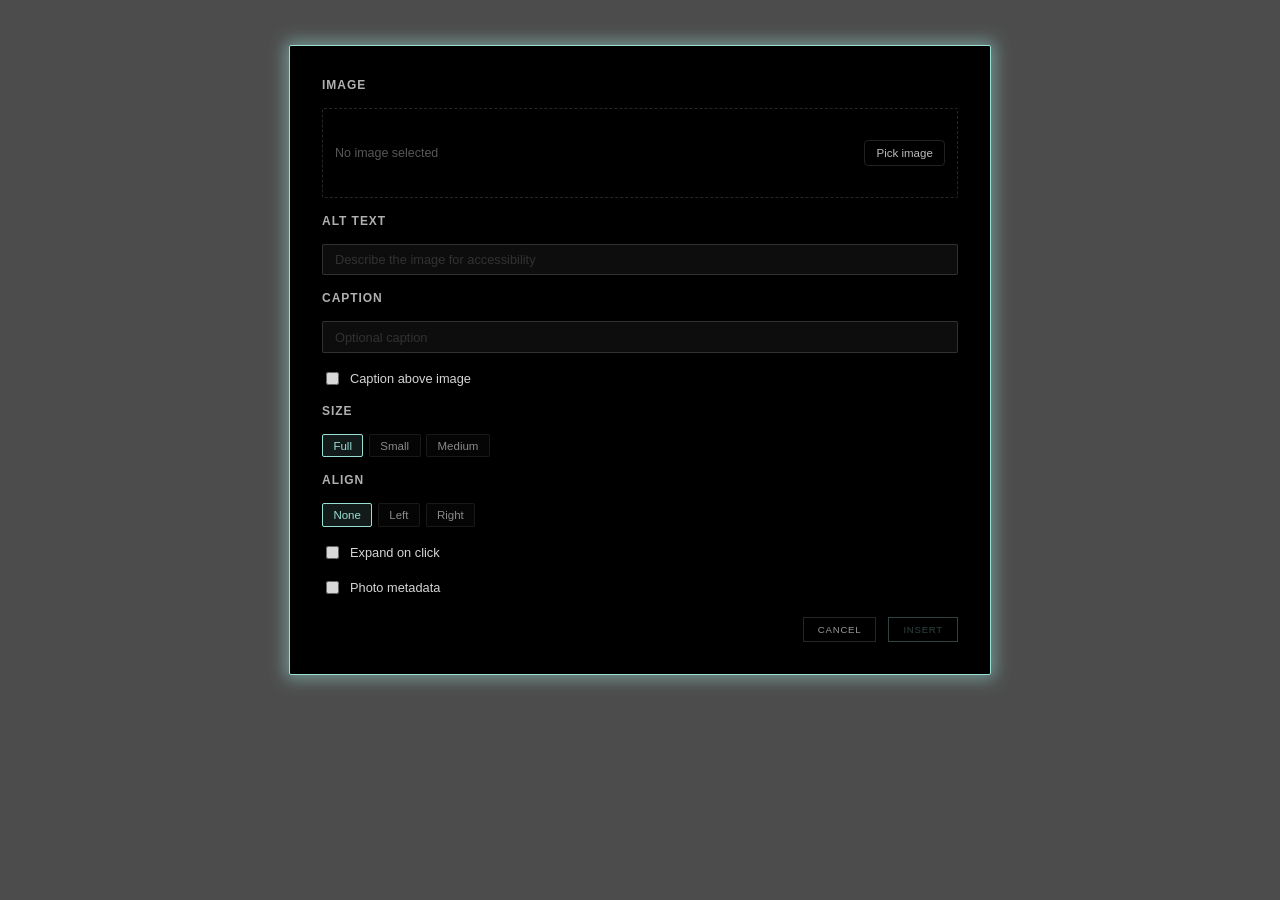
Scenario: ImageInsertModal › shows image thumb and enables insert after picking image
This screenshot has width=1280, height=900.
Click the button with test id "pick-image-button": click(905, 153) x1=864 y1=140 x2=945 y2=166
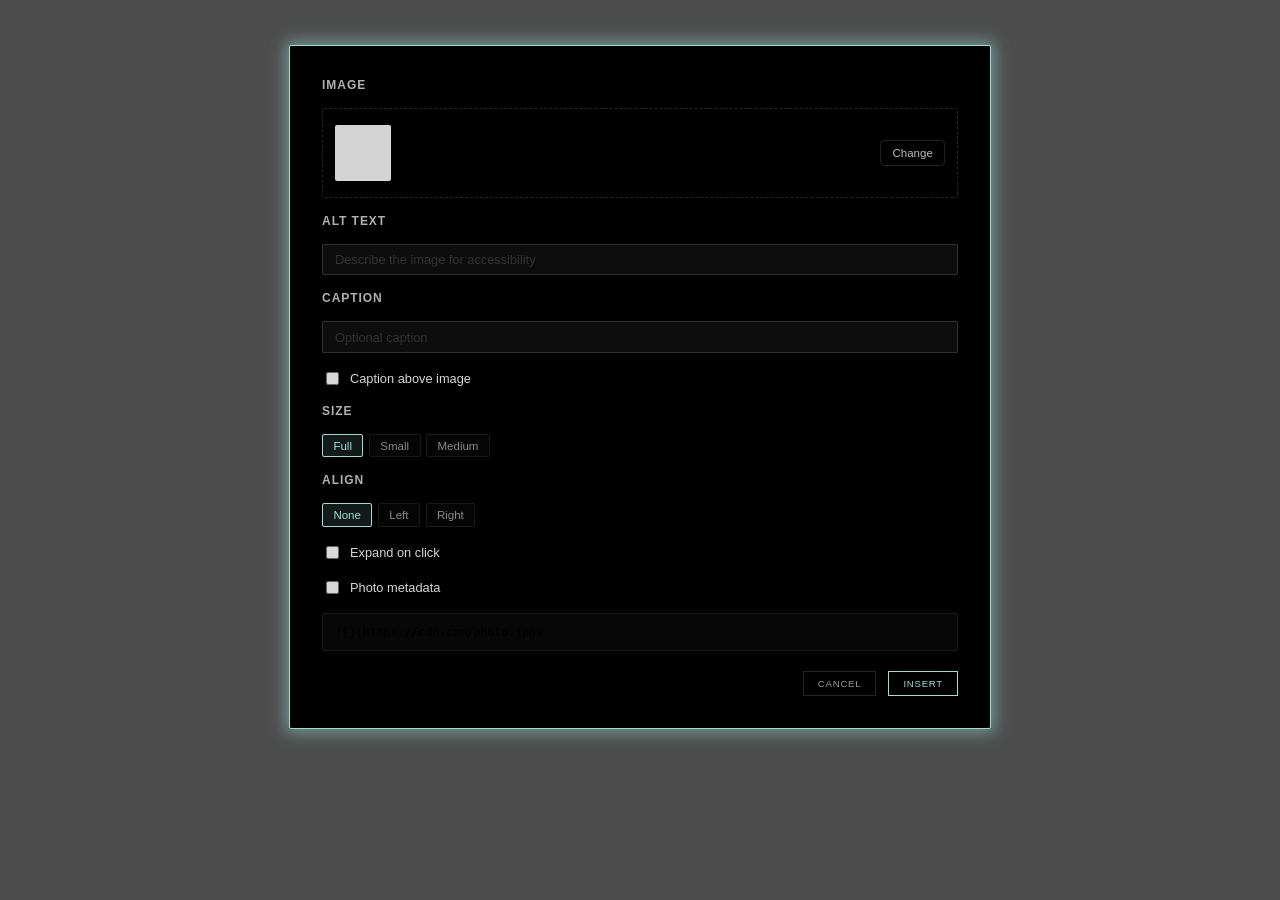
Check: the button with test id "image-modal-insert" is enabled, box x1=888 y1=671 x2=958 y2=696
Check: the button with test id "pick-image-button" reads "Change", box x1=880 y1=140 x2=945 y2=166
